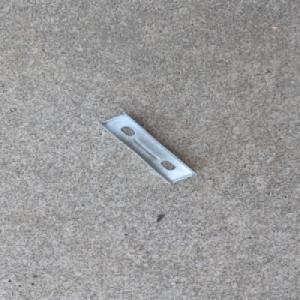ClampPart: (94, 110, 199, 186)
